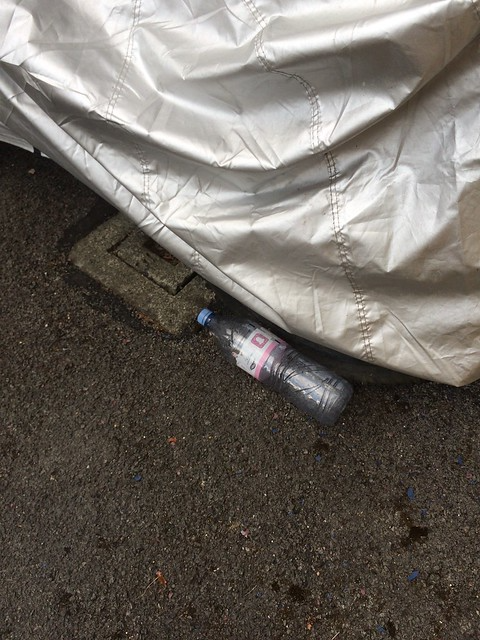bottle: (189, 296, 358, 425)
